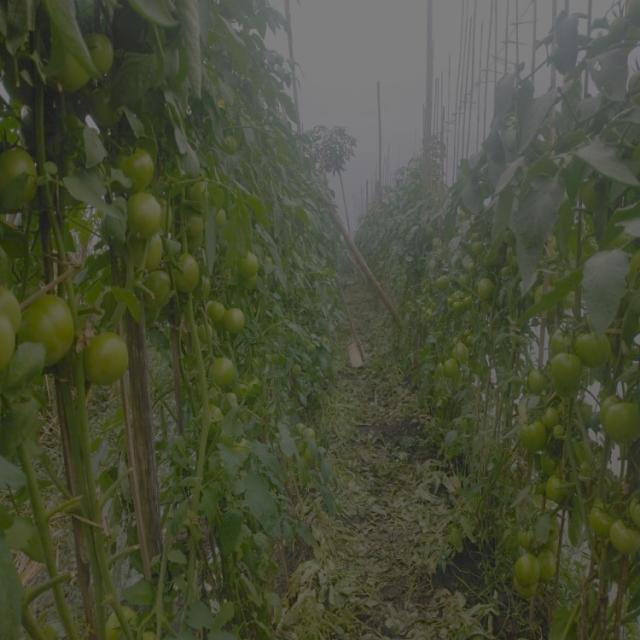tomato: (30, 286, 74, 372), (78, 325, 134, 390), (2, 141, 42, 211), (602, 391, 640, 448), (83, 24, 117, 75), (1, 288, 22, 367), (131, 193, 169, 236), (578, 328, 616, 368), (547, 350, 584, 391), (172, 246, 205, 288), (207, 349, 241, 389), (123, 144, 156, 182), (106, 598, 135, 640), (536, 508, 563, 548), (58, 55, 90, 88), (517, 418, 548, 452), (509, 551, 537, 588), (141, 271, 172, 304), (590, 498, 616, 537), (97, 212, 125, 248), (613, 518, 640, 552), (199, 400, 227, 429), (543, 474, 571, 502), (471, 274, 499, 302), (226, 306, 253, 333), (536, 278, 558, 311), (241, 250, 264, 281), (439, 353, 461, 385), (539, 551, 561, 582), (184, 211, 208, 239), (514, 514, 535, 544), (552, 320, 576, 346), (227, 430, 251, 456), (525, 367, 550, 391), (205, 300, 230, 324), (130, 581, 154, 606), (184, 174, 209, 198), (297, 417, 315, 447), (449, 338, 473, 359), (146, 236, 167, 260), (436, 269, 454, 296), (214, 207, 234, 228), (543, 405, 561, 428), (629, 493, 640, 529)
